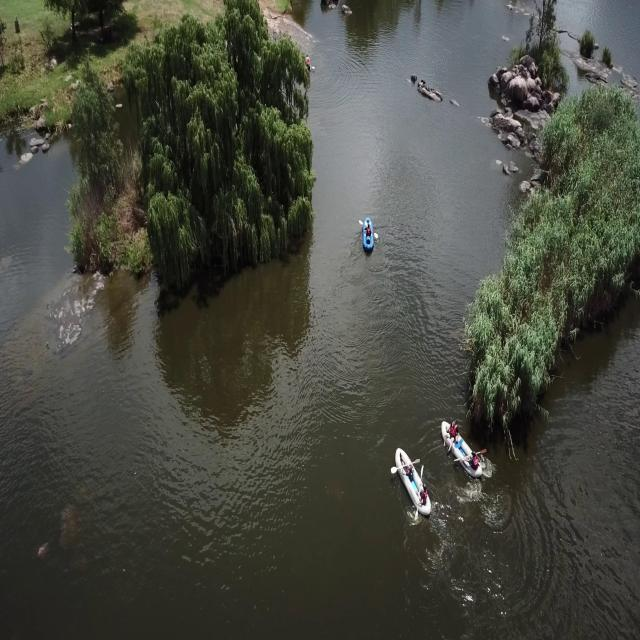kayak: (391, 442, 436, 522), (440, 415, 488, 481), (360, 215, 376, 256)
